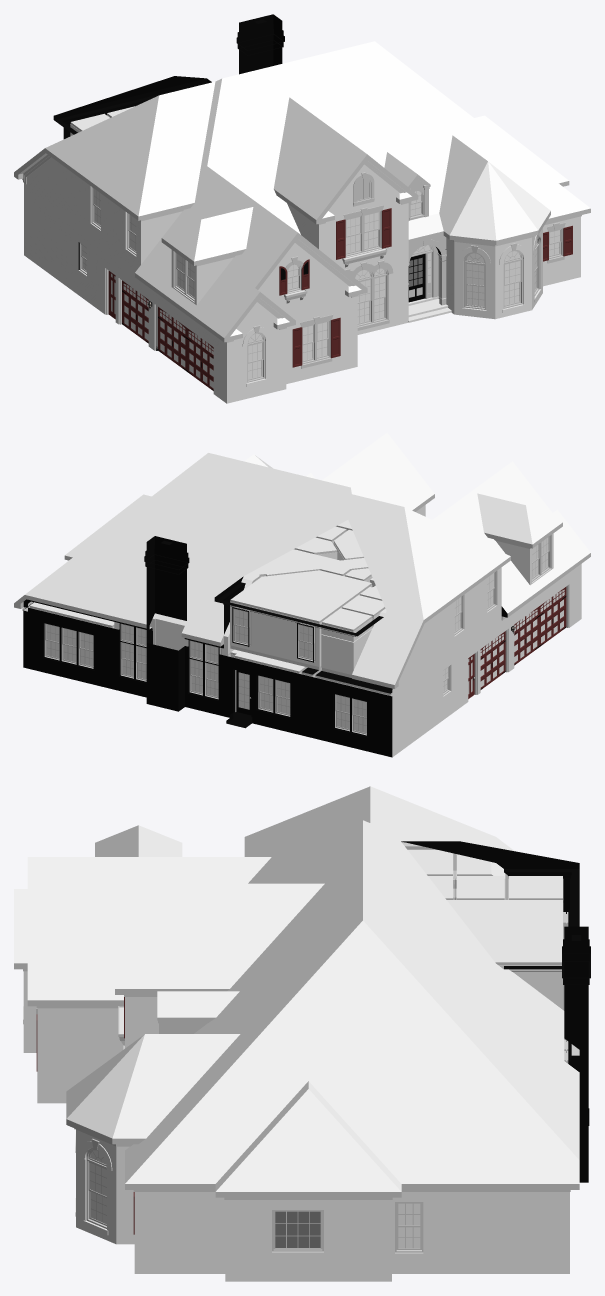
The picture shows the model from 3 angles, top to bottom: view 1: azimuth 30°, elevation 25°; view 2: azimuth 150°, elevation 25°; view 3: azimuth 270°, elevation 25°; orthographic projection. The views are drawn at different scales.
Visible parts, largest first — view 1: Roof_001, Second Floor_001, Layer0_001; view 2: Roof_001, Layer0_001, Second Floor_001; view 3: Roof_001, Second Floor_001, Layer0_001.
Boxes of the visible parts, box(x1,y1,x2,y2) form: Roof_001: box(39, 14, 502, 289); Second Floor_001: box(14, 63, 590, 342); Layer0_001: box(24, 190, 581, 403); Roof_001: box(89, 432, 562, 636); Layer0_001: box(22, 564, 581, 757); Second Floor_001: box(14, 461, 590, 695); Roof_001: box(27, 786, 590, 1076); Second Floor_001: box(14, 846, 588, 1197); Layer0_001: box(23, 969, 589, 1281).
Bounding box in the file's own units: 20482 × 9478 × 18110.
